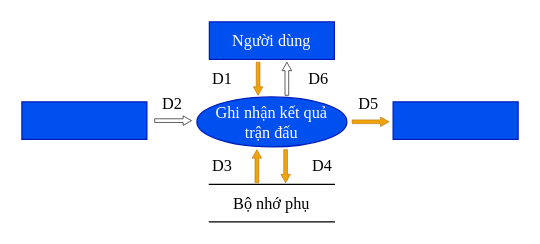
Some shapes in this 540 by 244 pixel diagram are drawn without their labels. The shapes that lost their labels are listed below. From the top down, each one's centre as x and y in pixels, then its label:
At pixel 84 120: "Thiết bị nhập".
At pixel 455 120: "Thiết bị xuất".
